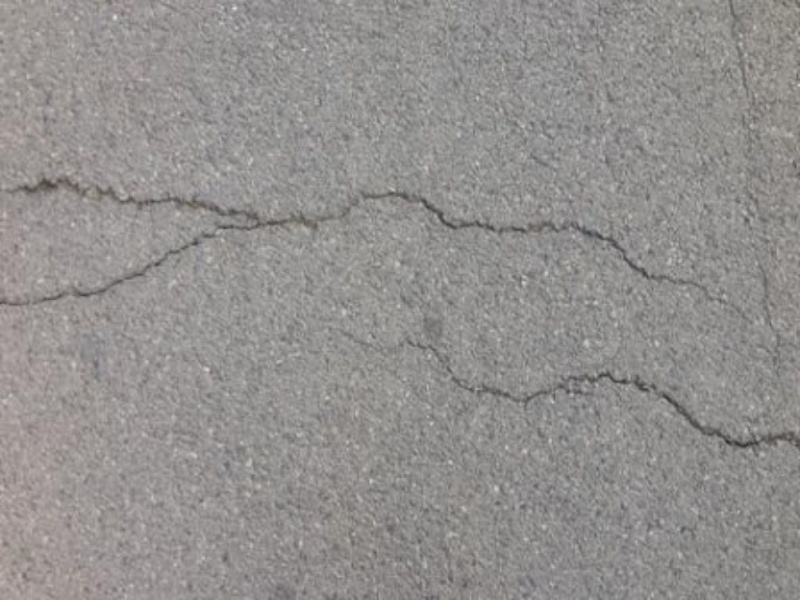crack: (11, 151, 742, 336), (412, 337, 800, 460)
